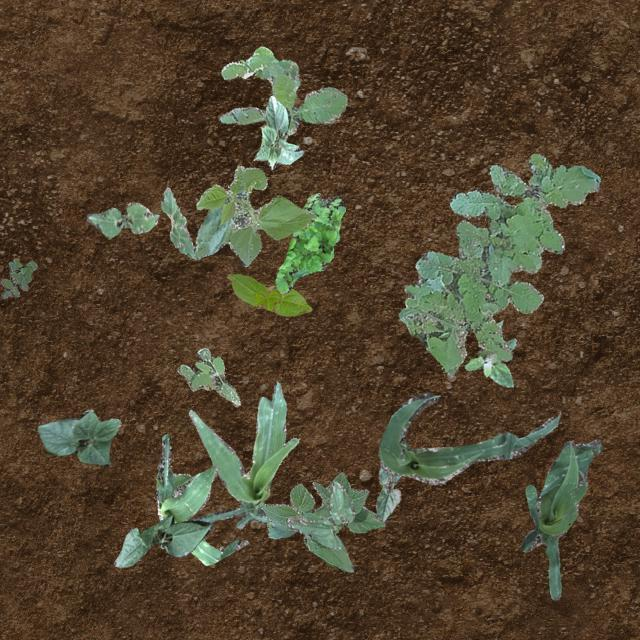crop: (378, 392, 558, 484), (188, 380, 298, 528), (520, 438, 600, 598), (192, 164, 316, 266), (257, 472, 383, 572), (154, 432, 246, 564), (112, 514, 212, 566), (36, 408, 120, 464), (286, 481, 354, 548), (254, 94, 304, 168), (226, 272, 310, 316), (85, 202, 158, 238), (160, 186, 193, 258), (374, 466, 400, 524)
weed: (398, 152, 600, 376), (218, 46, 346, 140), (274, 192, 344, 292), (177, 346, 240, 406), (464, 320, 516, 386), (0, 258, 37, 298)
